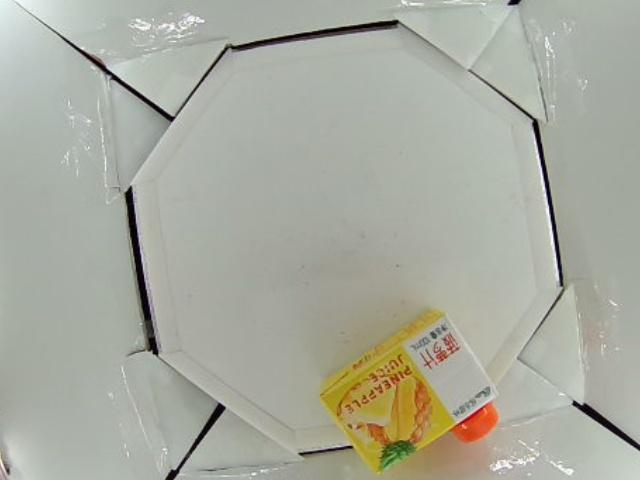Bottle: (317, 307, 501, 476)
